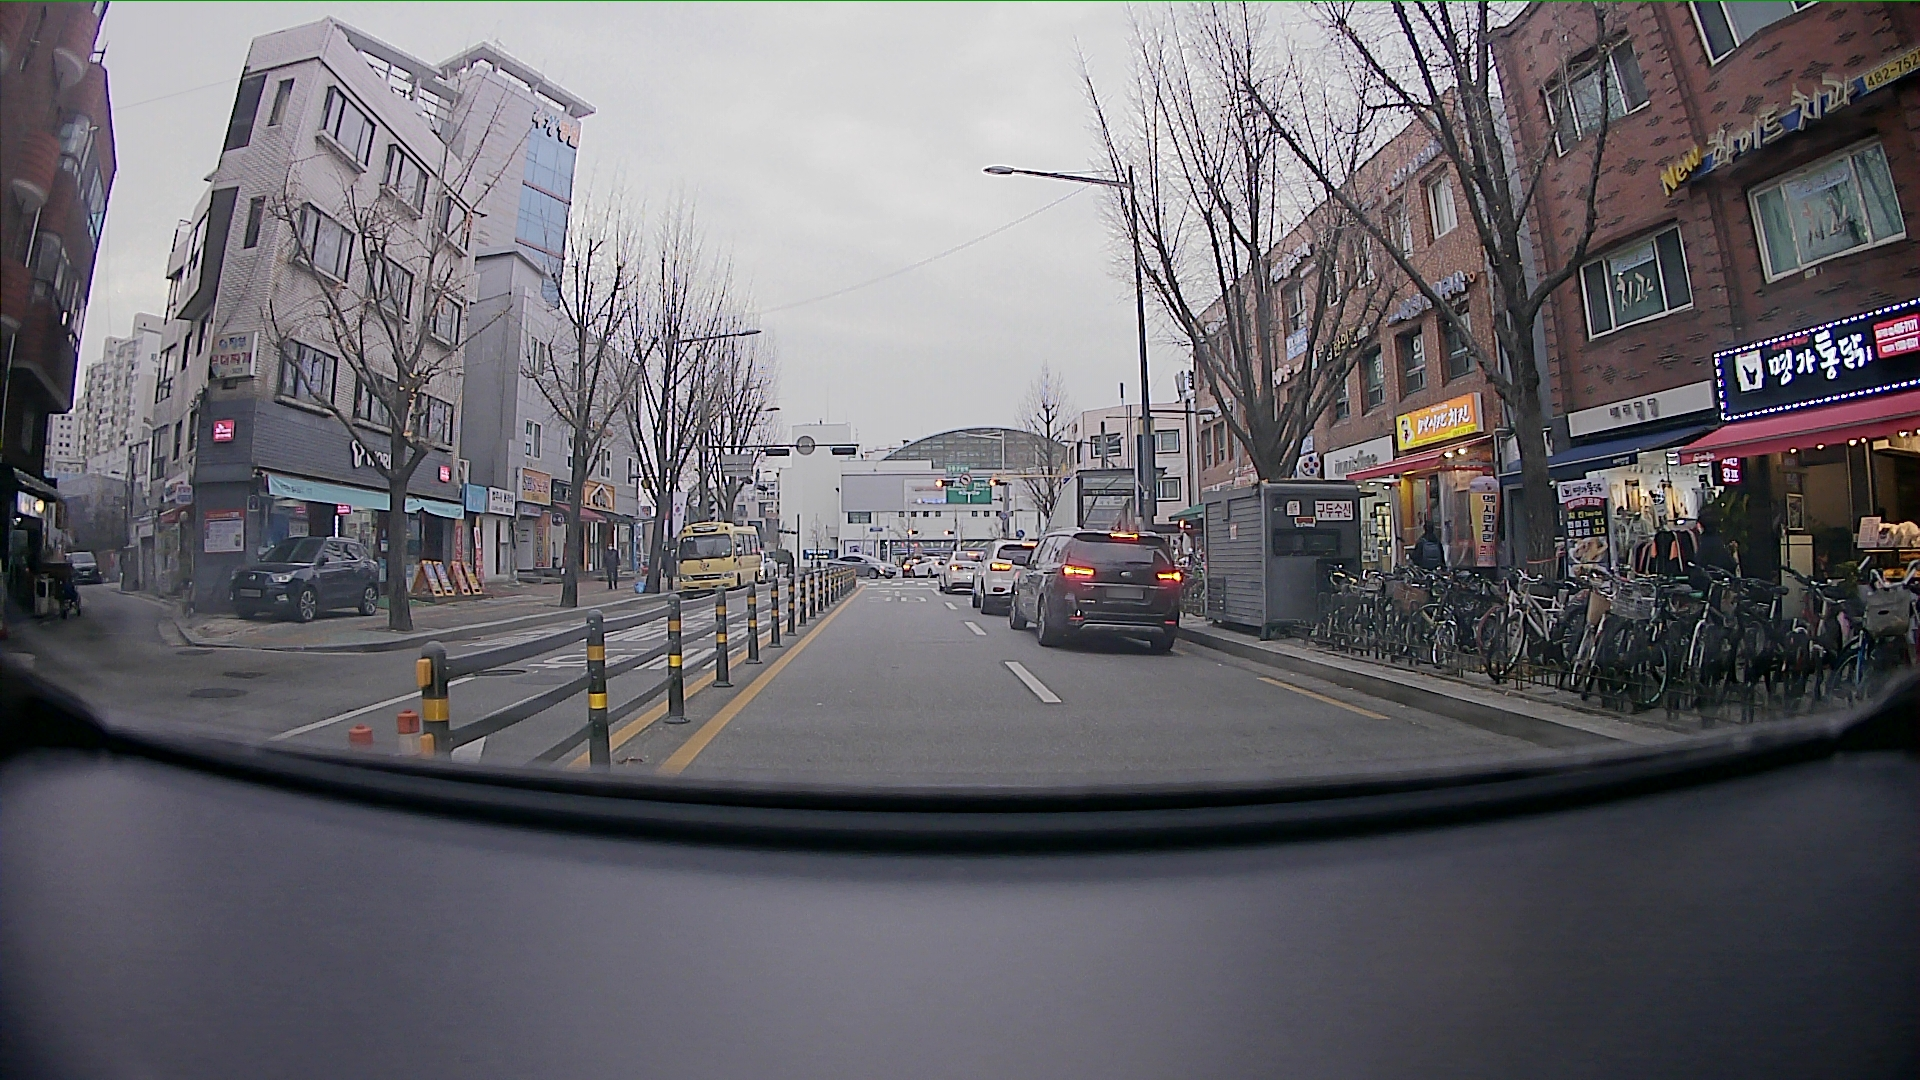trafficLight: (928, 477, 1013, 491)
